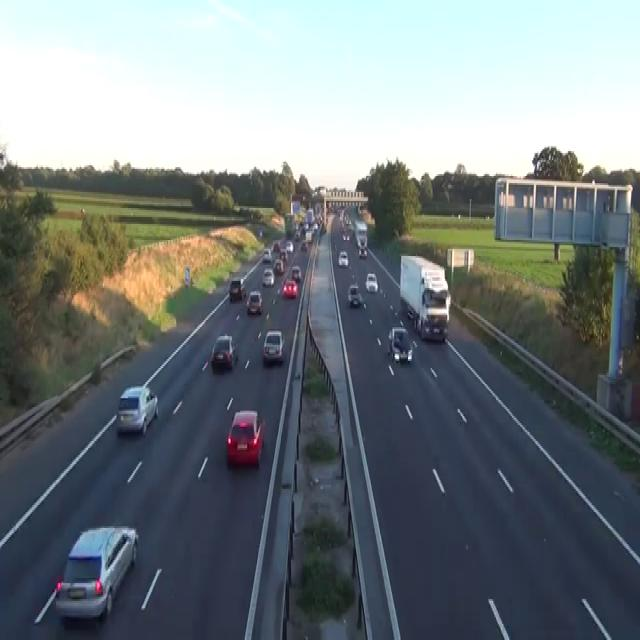Car: (55, 524, 138, 620), (226, 409, 265, 467), (116, 384, 158, 436), (210, 334, 238, 370), (388, 325, 413, 363), (262, 329, 284, 363), (421, 315, 448, 341), (246, 290, 262, 314), (346, 282, 361, 306), (229, 278, 245, 300), (282, 277, 298, 297), (365, 272, 378, 292), (262, 267, 274, 286), (338, 249, 348, 267), (273, 258, 284, 274), (356, 233, 367, 249), (291, 265, 301, 281), (262, 247, 271, 263), (0, 149, 6, 169), (358, 245, 367, 258), (279, 247, 287, 260), (285, 240, 293, 252), (272, 240, 280, 252), (305, 231, 313, 242), (407, 306, 414, 318), (300, 240, 307, 251), (342, 233, 350, 242), (294, 229, 300, 240), (320, 222, 326, 233), (313, 222, 318, 231), (259, 230, 262, 237)
Truck: (399, 255, 451, 342), (354, 219, 367, 249), (284, 212, 295, 236)
